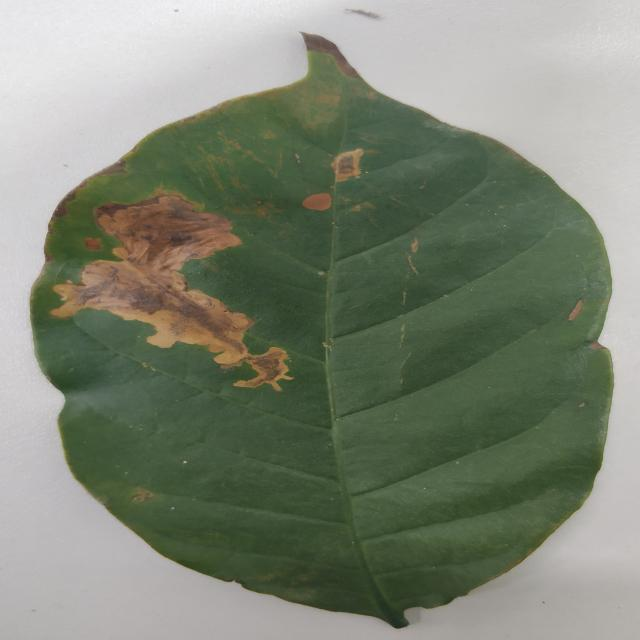Plaga-Minador: (28, 33, 615, 632)
